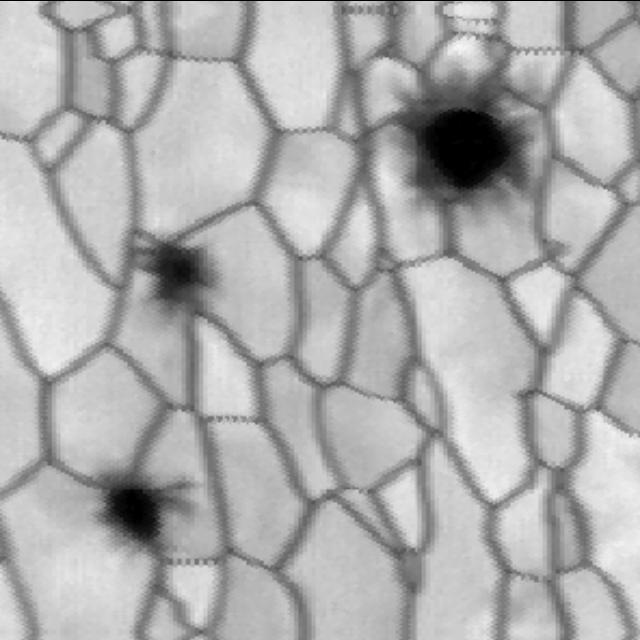good_void: (387, 56, 549, 233), (113, 200, 245, 321), (84, 453, 216, 573)
